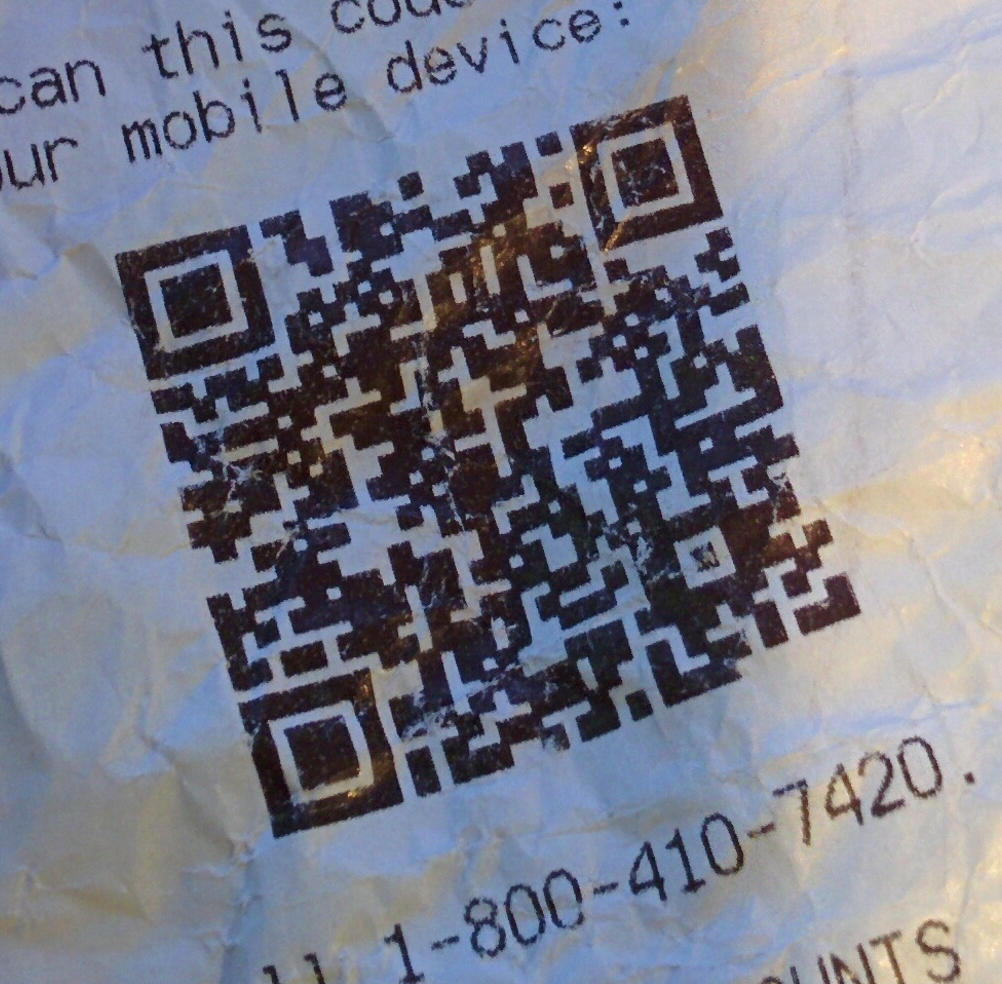QR_CODE: (89, 81, 877, 849)
